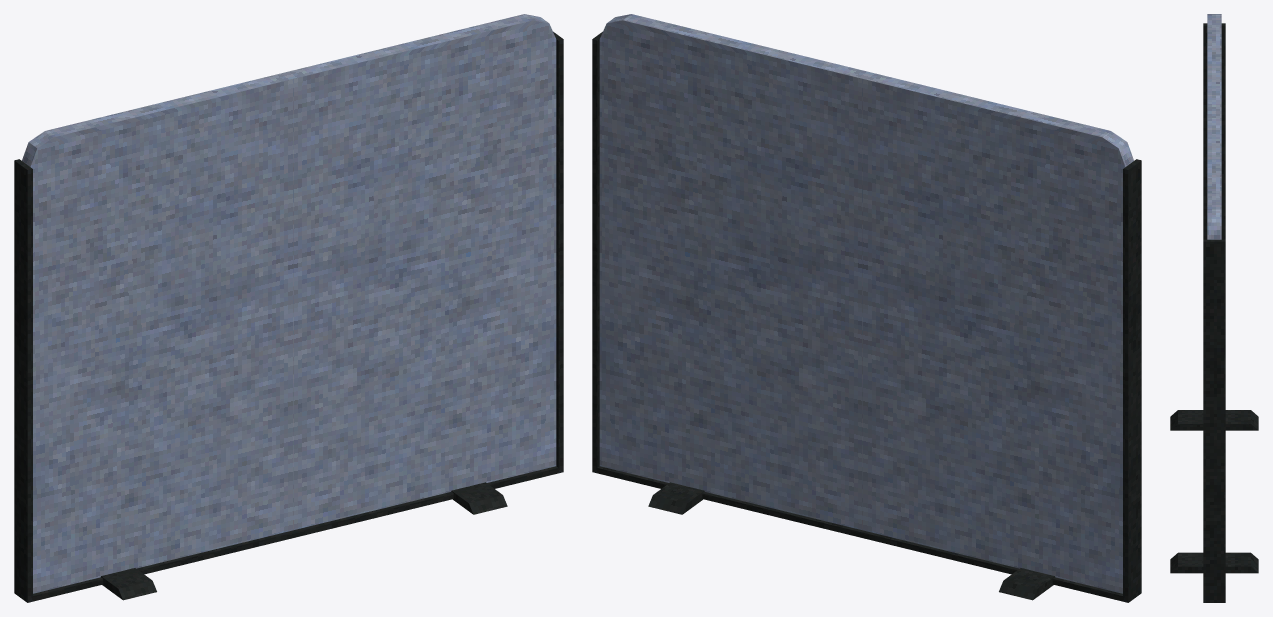
Rendered from divider_black_blue.glb.
3 views of the same model, side by side, from view 1: azimuth 30°, elevation 25°; view 2: azimuth 150°, elevation 25°; view 3: azimuth 270°, elevation 25° (orthographic). The views are drawn at different scales.
Visible parts, largest first — view 1: divider_black_blue; view 2: divider_black_blue; view 3: divider_black_blue.
Part boxes in pixels (bbox=[...]): divider_black_blue: bbox=[14, 14, 563, 602]; divider_black_blue: bbox=[592, 14, 1141, 602]; divider_black_blue: bbox=[1170, 14, 1258, 602].
Size of the model in its own units: 3.06 by 2.5 by 0.523.
1 material, 1 textured.
